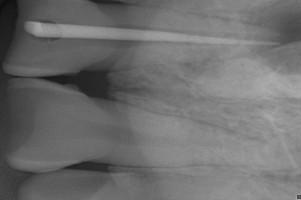Furcation Involvement: (240, 0, 301, 73)
